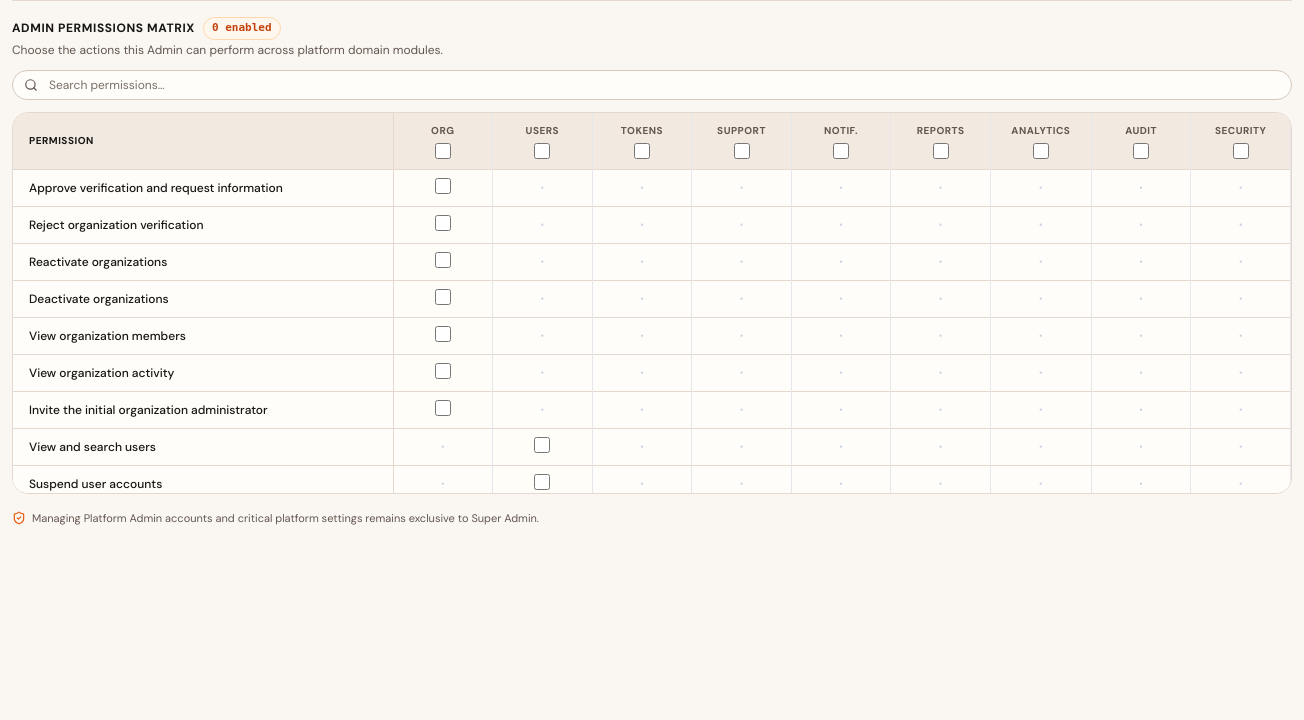
Test: Platform Admin Features Search (Bug 4) › displays empty state message when no features match query
Type "nonexistentkeyword" into the field with placeholder "Search permissions…" at (652, 84), box [12,70,1292,100]
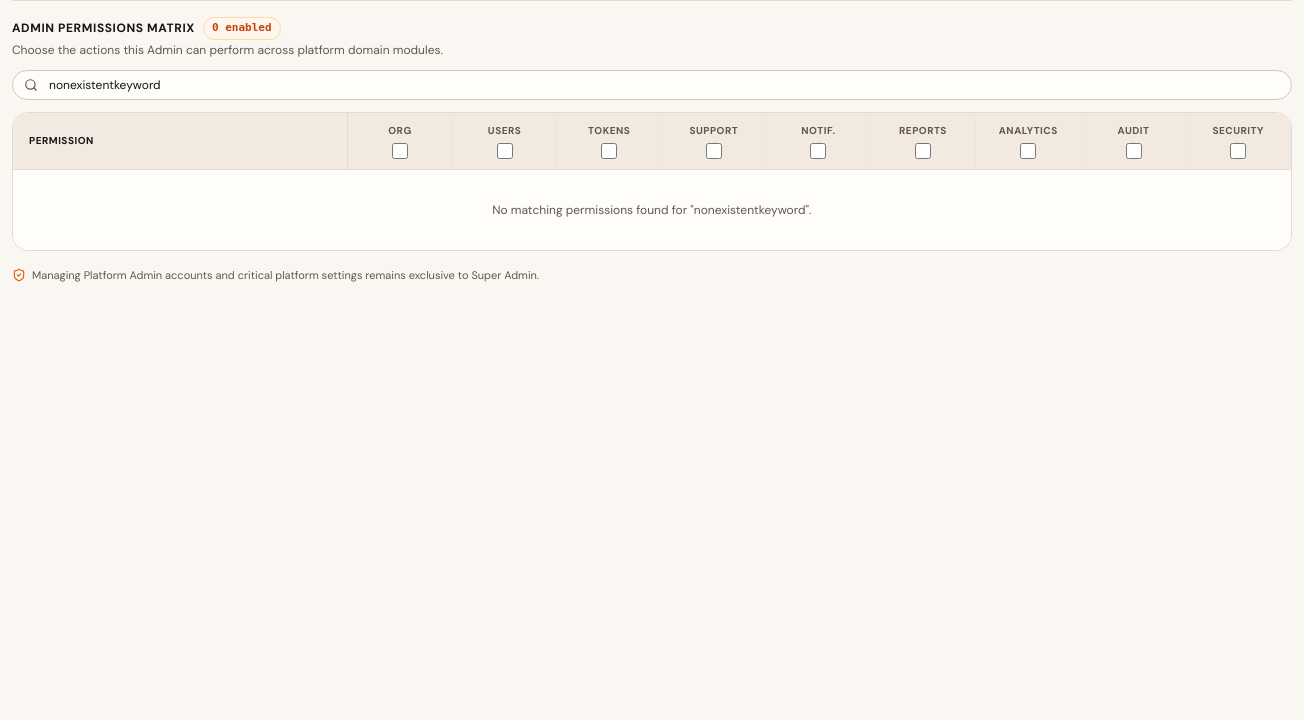
expect the text "No matching permissions found for \"nonexistentkeyword\"." is shown: met, box [13,169,1290,250]
